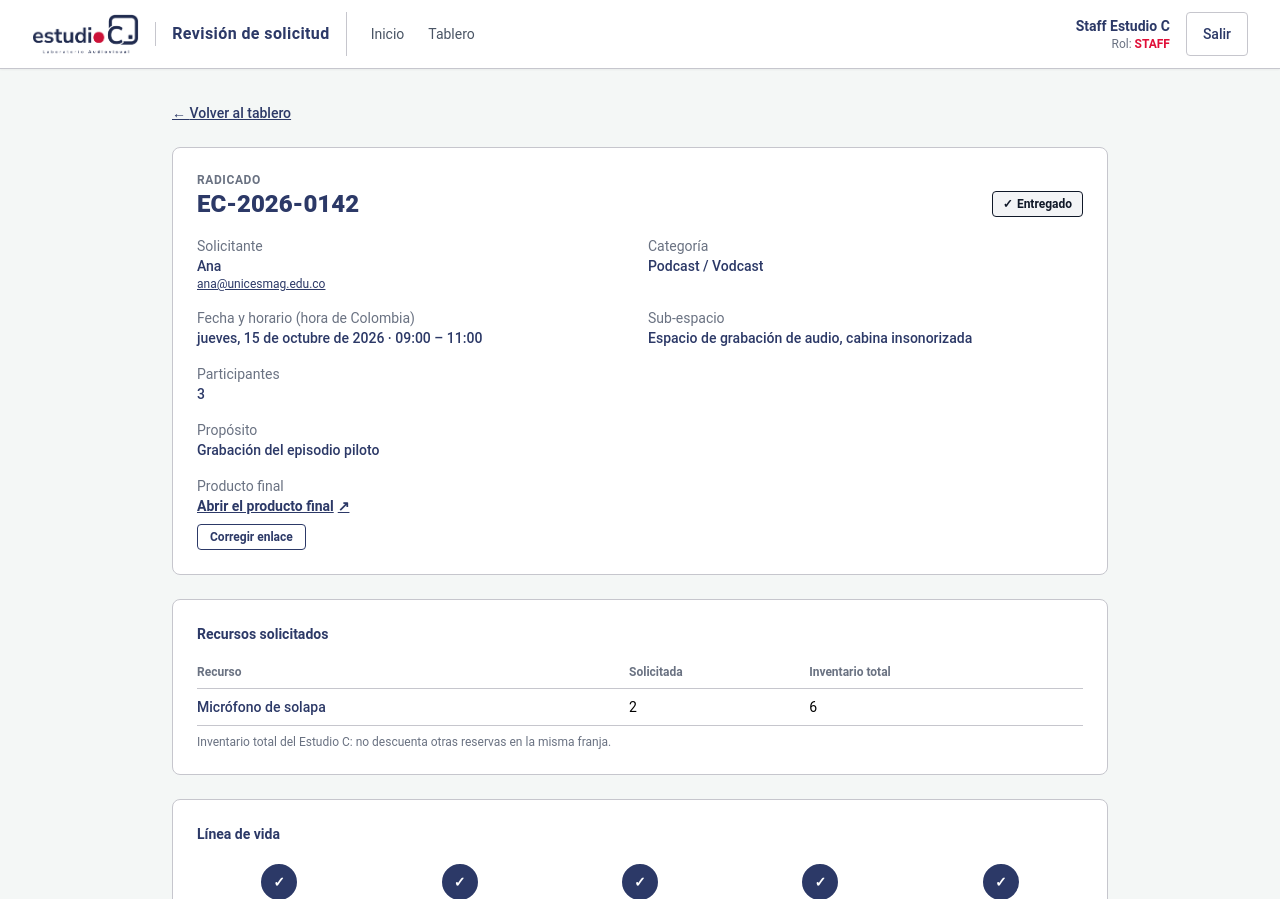
Test: DetalleStaff · corrección del enlace de entrega (Fase 9 · K4) › con motivo: corto bloquea; válido viaja recortado
Click the button "Corregir enlace" at (251, 537), box [197,524,306,550]
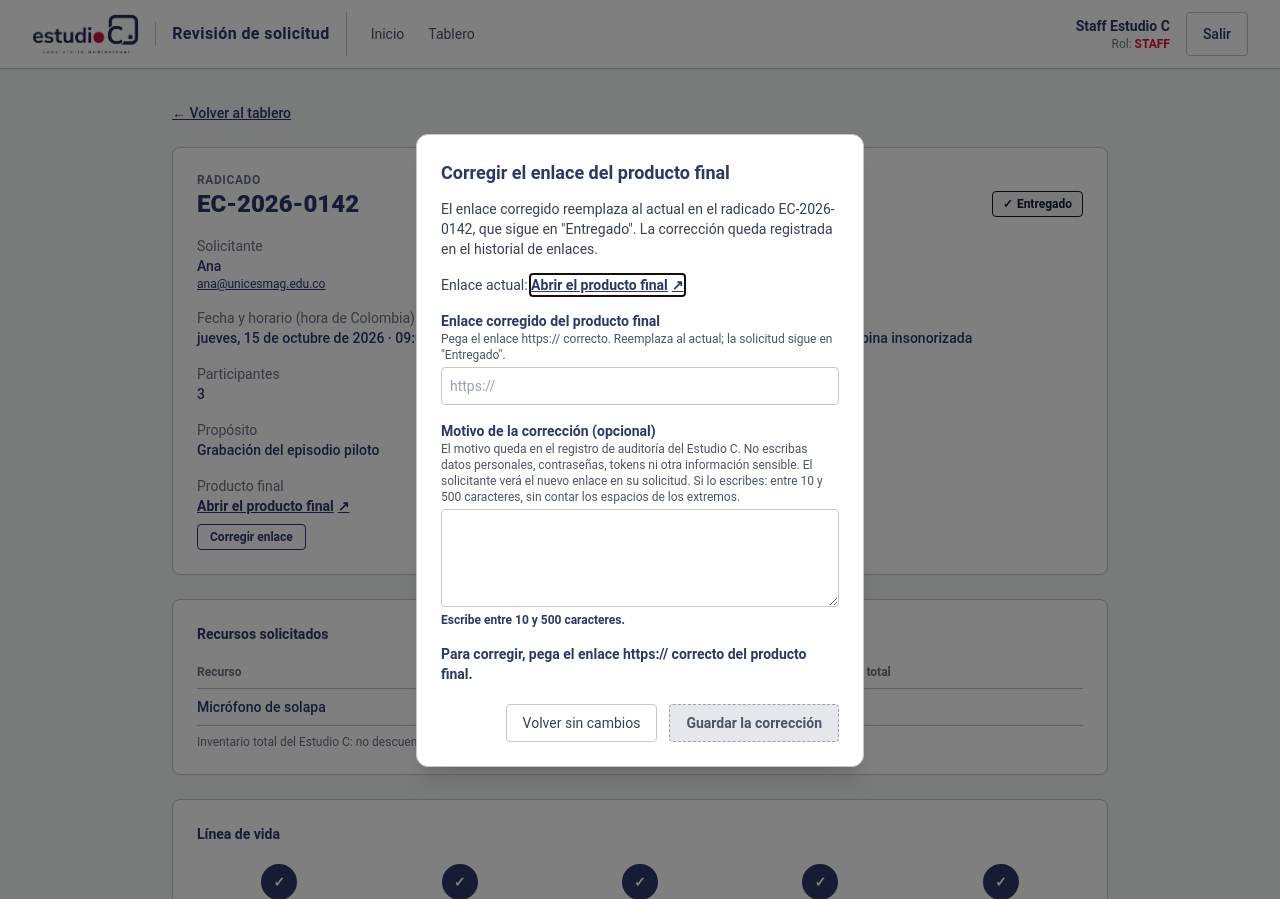
Type "https://drive.google.com/file/d/ZyX_2/view" into the field labelled "Enlace corregido del producto final" at (640, 386), box [441,366,839,404]
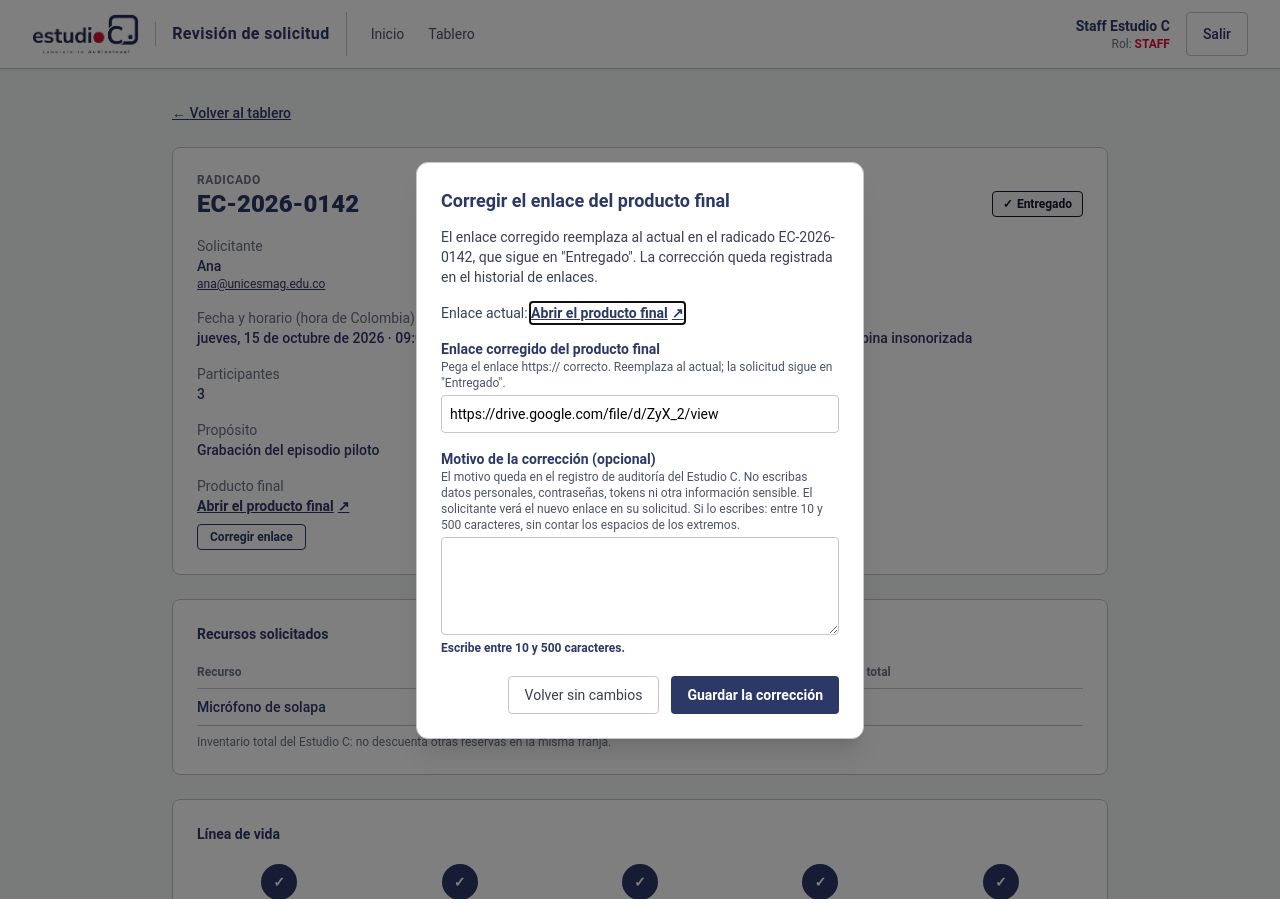
Type "Corto" into the text box labelled "Motivo de la corrección (opcional)" at (640, 586), box [441,536,839,634]
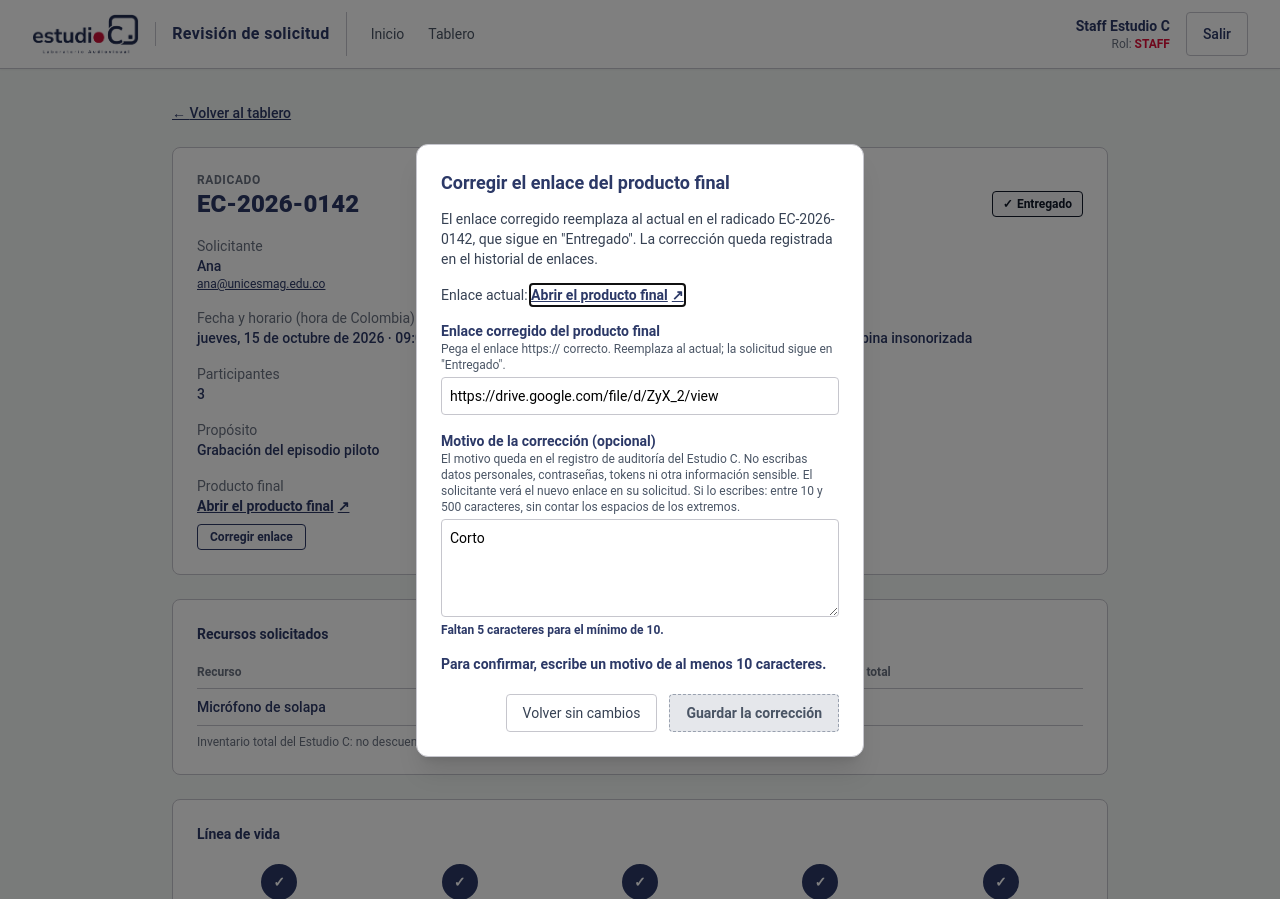
Result: the button "Guardar la corrección" is disabled at [670,694,839,732]
Replace the text in the text box labelled "Motivo de la corrección (opcional)" with "  Se registró el enlace de otra grabación.  " at (640, 568), box [441,518,839,616]
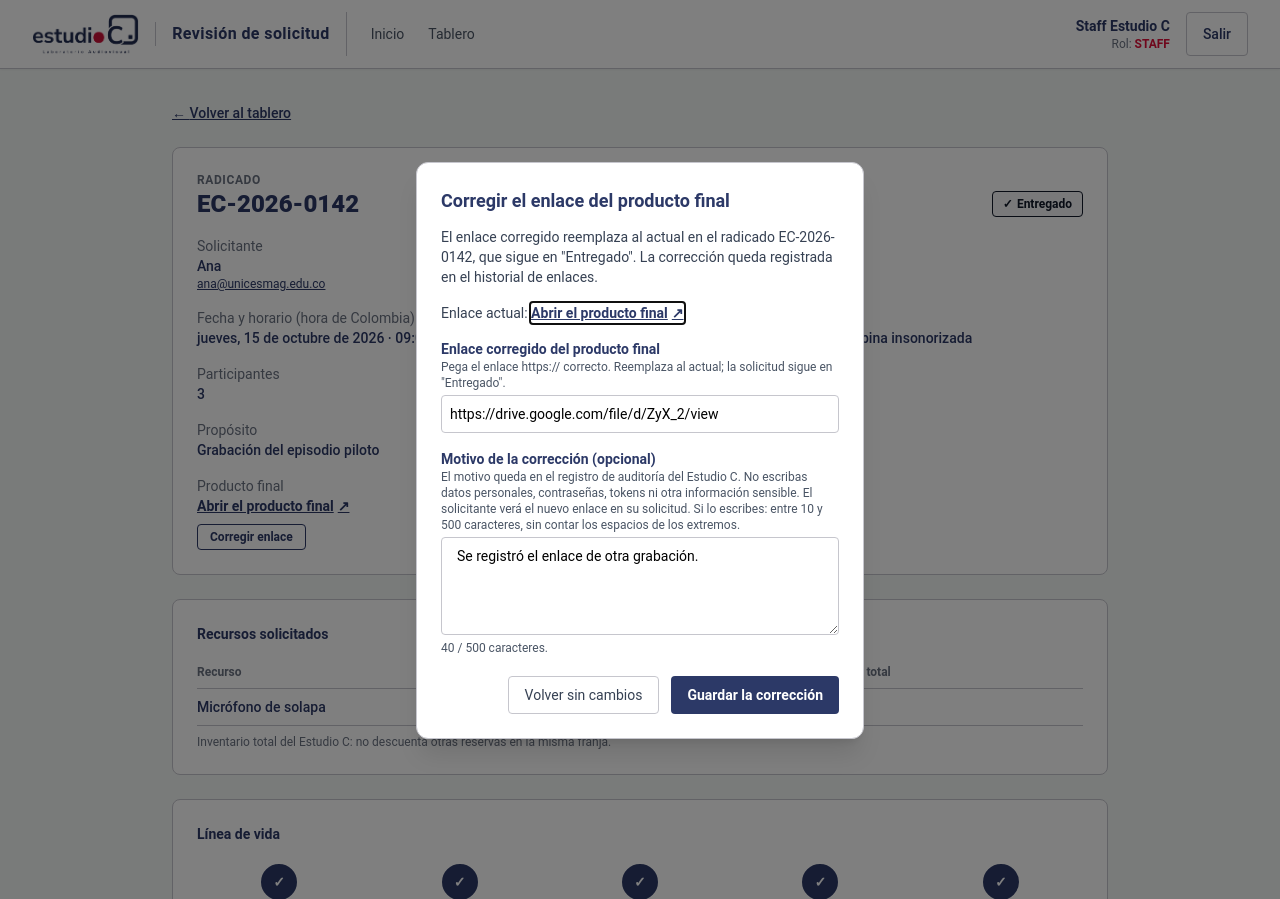
Click the button "Guardar la corrección" at (755, 694), box [672,676,839,714]
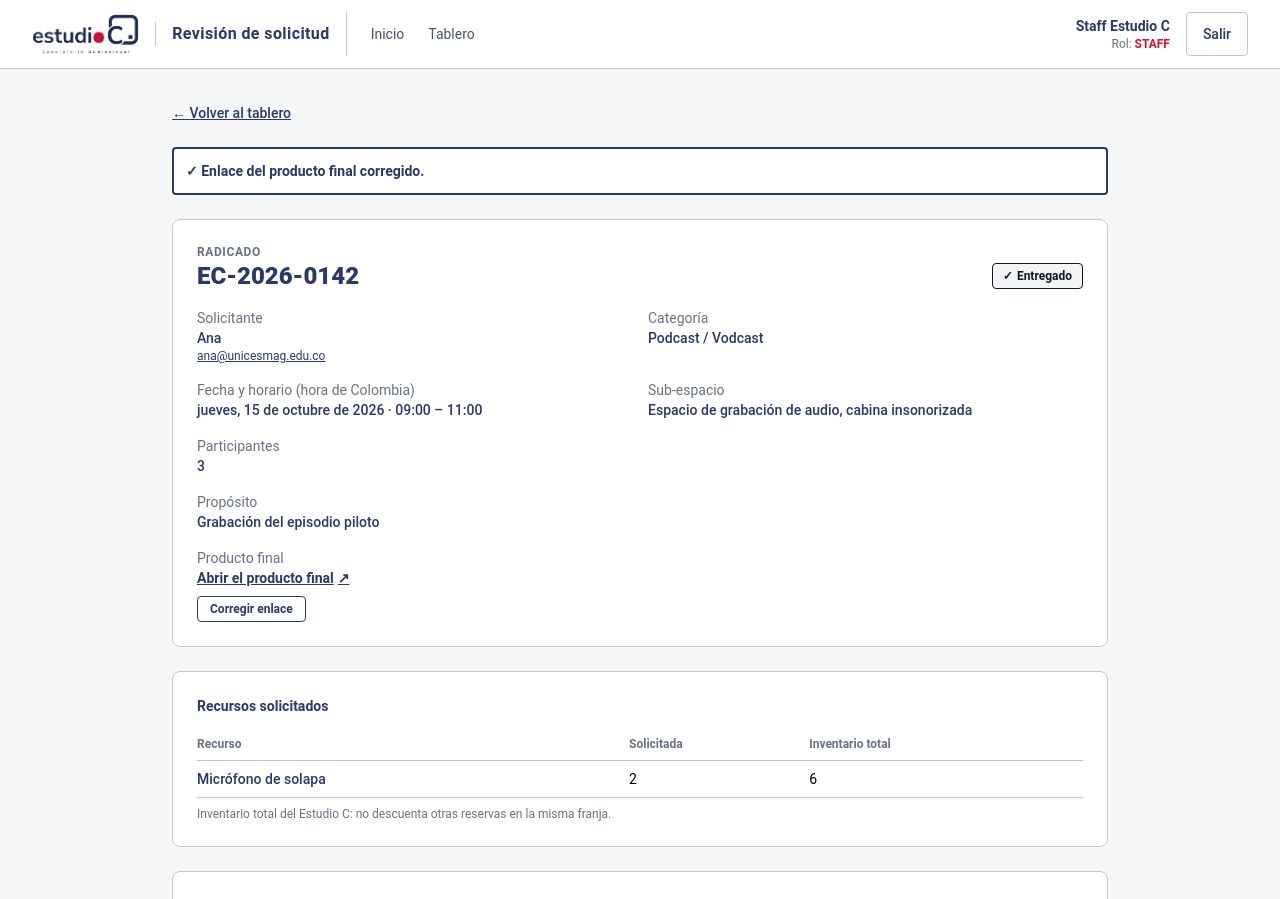
Result: the element showing "✓ Enlace del producto final corregido." is shown at [172,147,1108,195]
